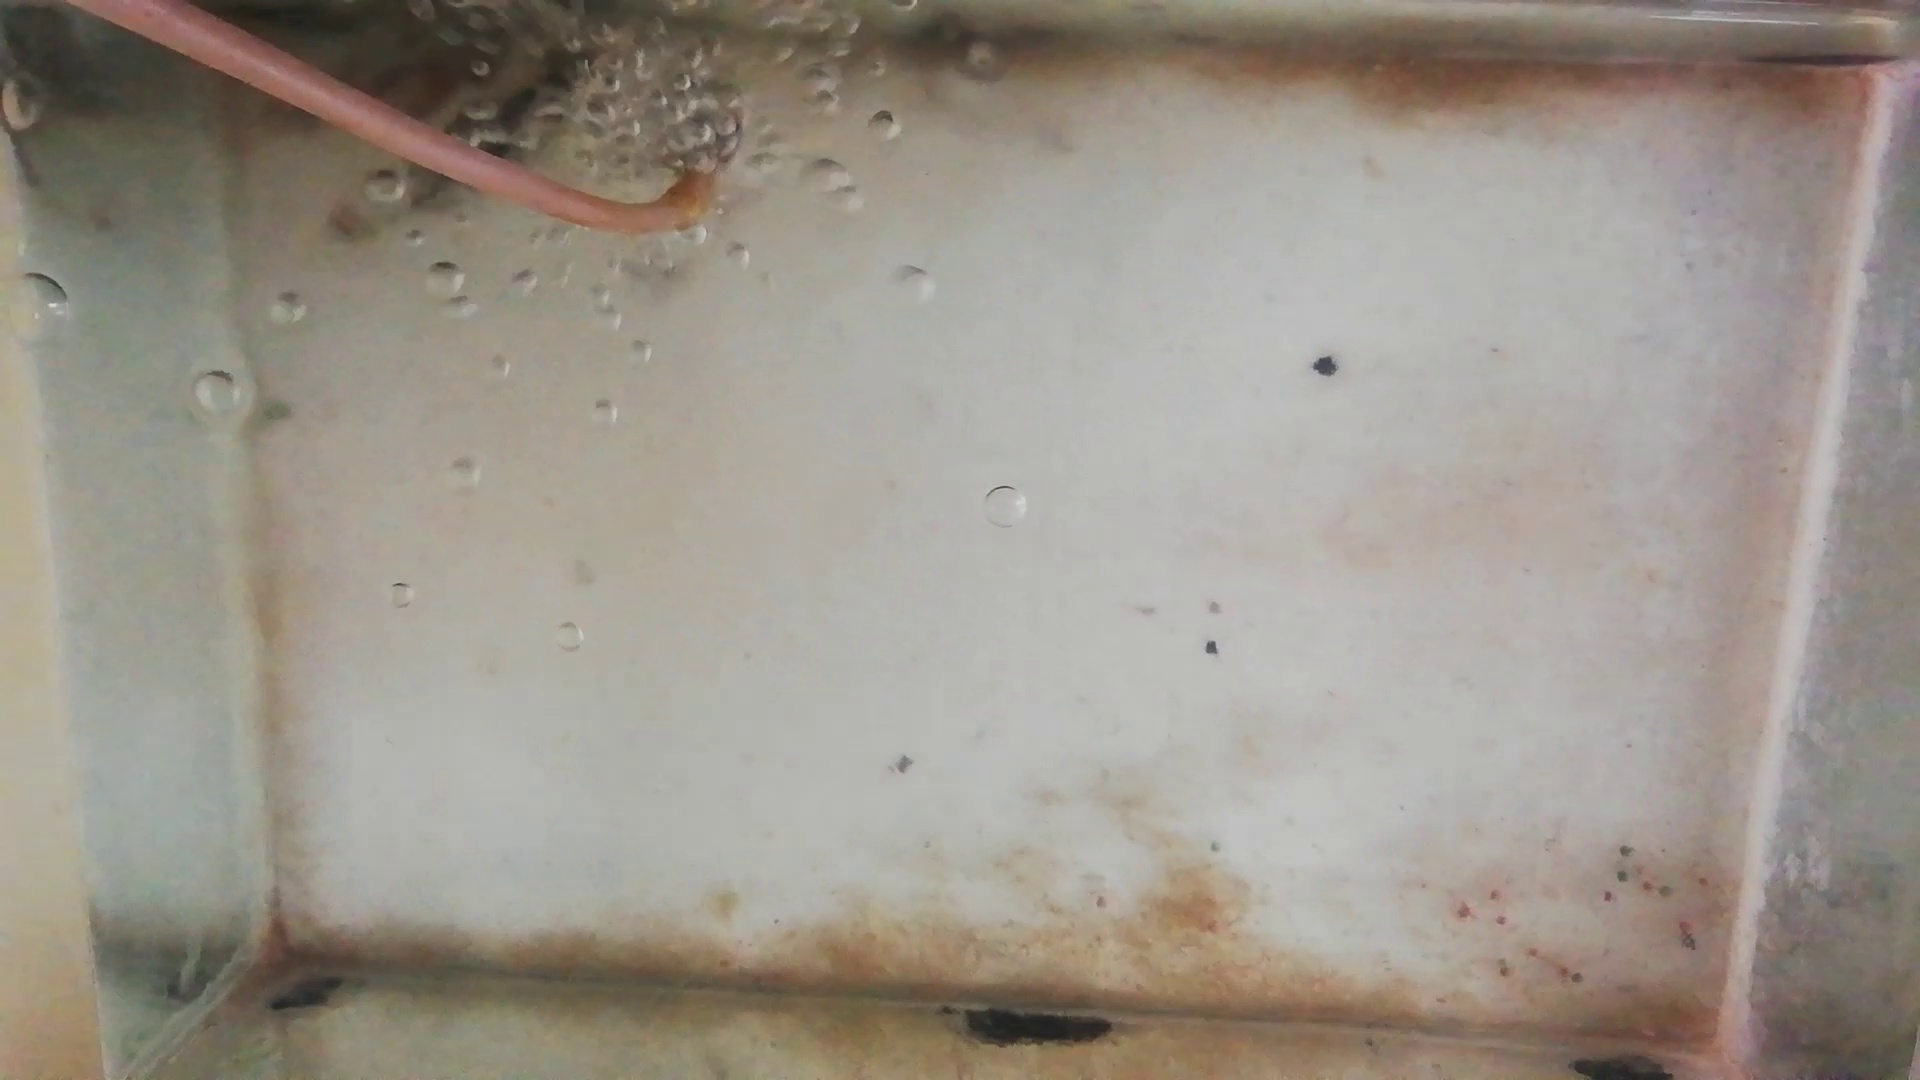fish: (455, 57, 603, 156), (338, 40, 489, 100)
